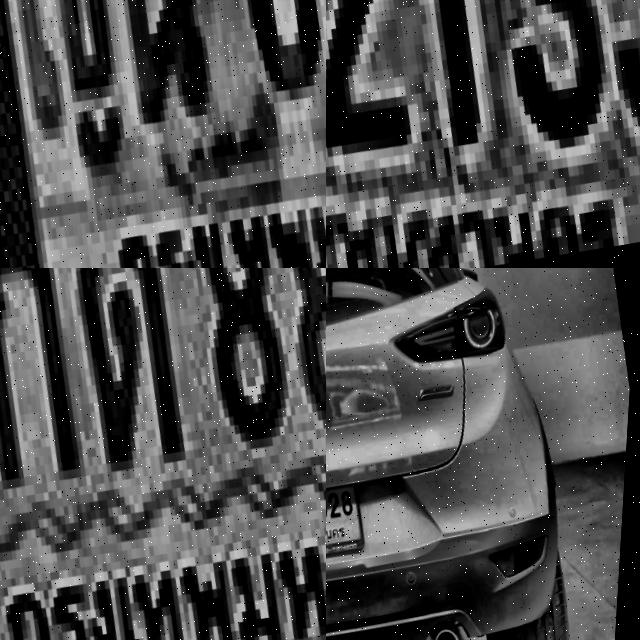license-plate: (0, 268, 326, 640), (0, 0, 326, 268), (326, 0, 640, 268), (326, 473, 374, 568)
